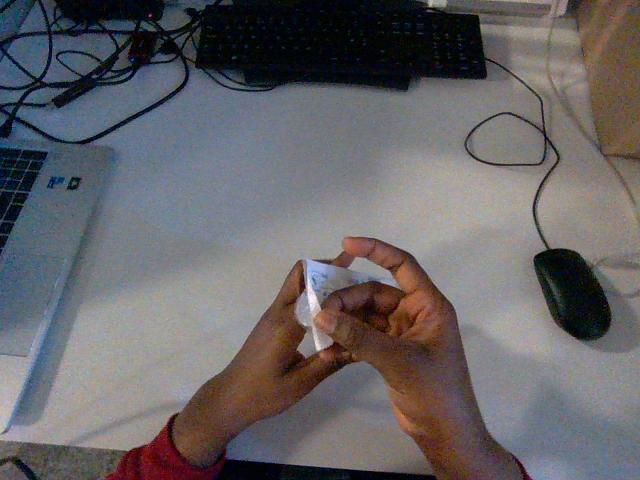syringe: (296, 259, 396, 350)
